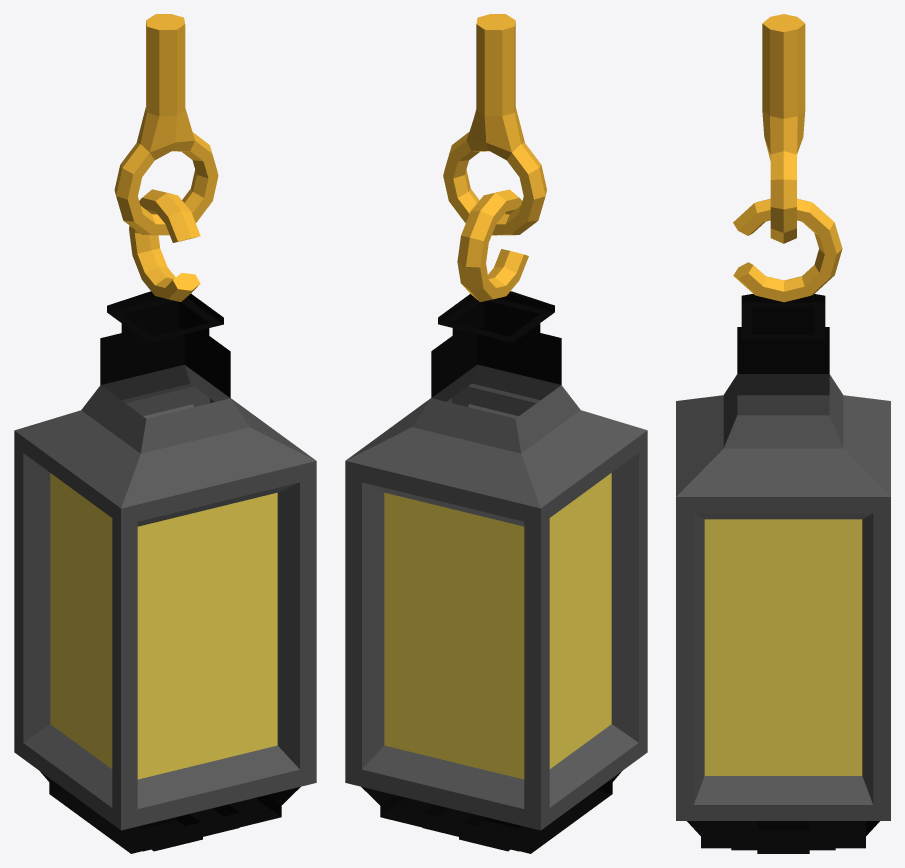
The model's file is Torch.fbx.
The picture shows the model from 3 angles, left to right: view 1: azimuth 30°, elevation 25°; view 2: azimuth 150°, elevation 25°; view 3: azimuth 270°, elevation 25°; orthographic projection.
Parts seen in each view (by area): view 1: Lights.002, Lights.004, Lights.005, Lights.001, Lights.003; view 2: Lights.002, Lights.004, Lights.005, Lights.001, Lights.003; view 3: Lights.002, Lights.004, Lights.005, Lights.001, Lights.003.
Boxes of the visible parts, x1,y1,x2,y2 form: Lights.002: (14, 364, 316, 830); Lights.004: (50, 473, 277, 779); Lights.005: (114, 14, 218, 301); Lights.001: (100, 291, 281, 838); Lights.003: (40, 771, 300, 853); Lights.002: (345, 364, 647, 830); Lights.004: (384, 473, 611, 779); Lights.005: (443, 14, 546, 301); Lights.001: (380, 291, 612, 838); Lights.003: (361, 771, 621, 853); Lights.002: (676, 374, 890, 820); Lights.004: (704, 519, 862, 775); Lights.005: (733, 14, 842, 302); Lights.001: (737, 294, 829, 373); Lights.003: (687, 821, 879, 853).
Bounding box in the file's own units: 17.06 × 67.84 × 16.14.
